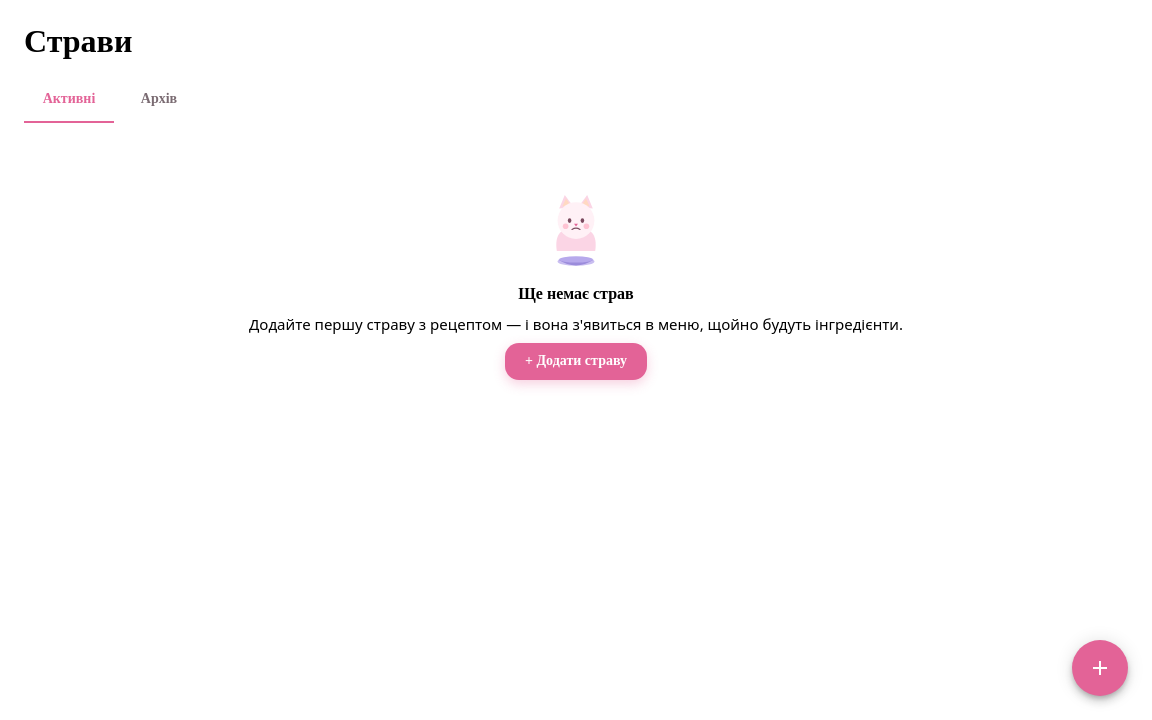
Test: DishesPage data states › opens the create-dish form from the empty-state CTA
The image size is (1152, 720).
Click the button "+ Додати страву": (576, 361) [505,343,647,380]
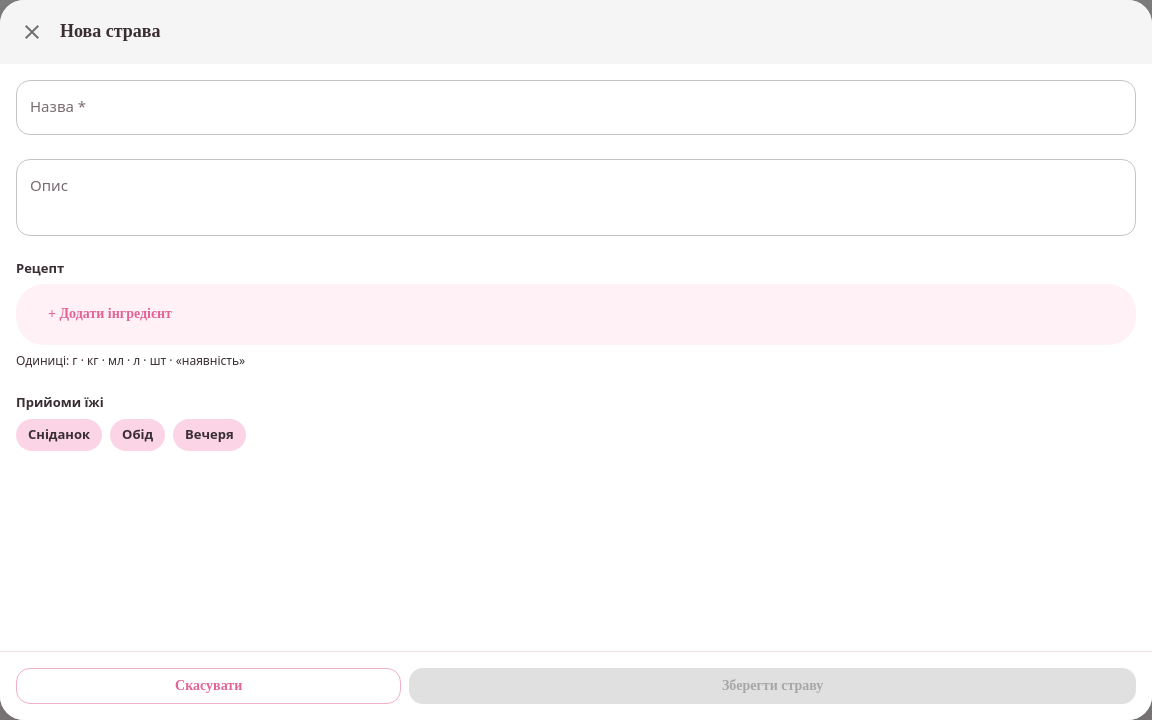
Now the dialog is shown
Now the heading "Нова страва" is shown, box [60,21,161,41]
